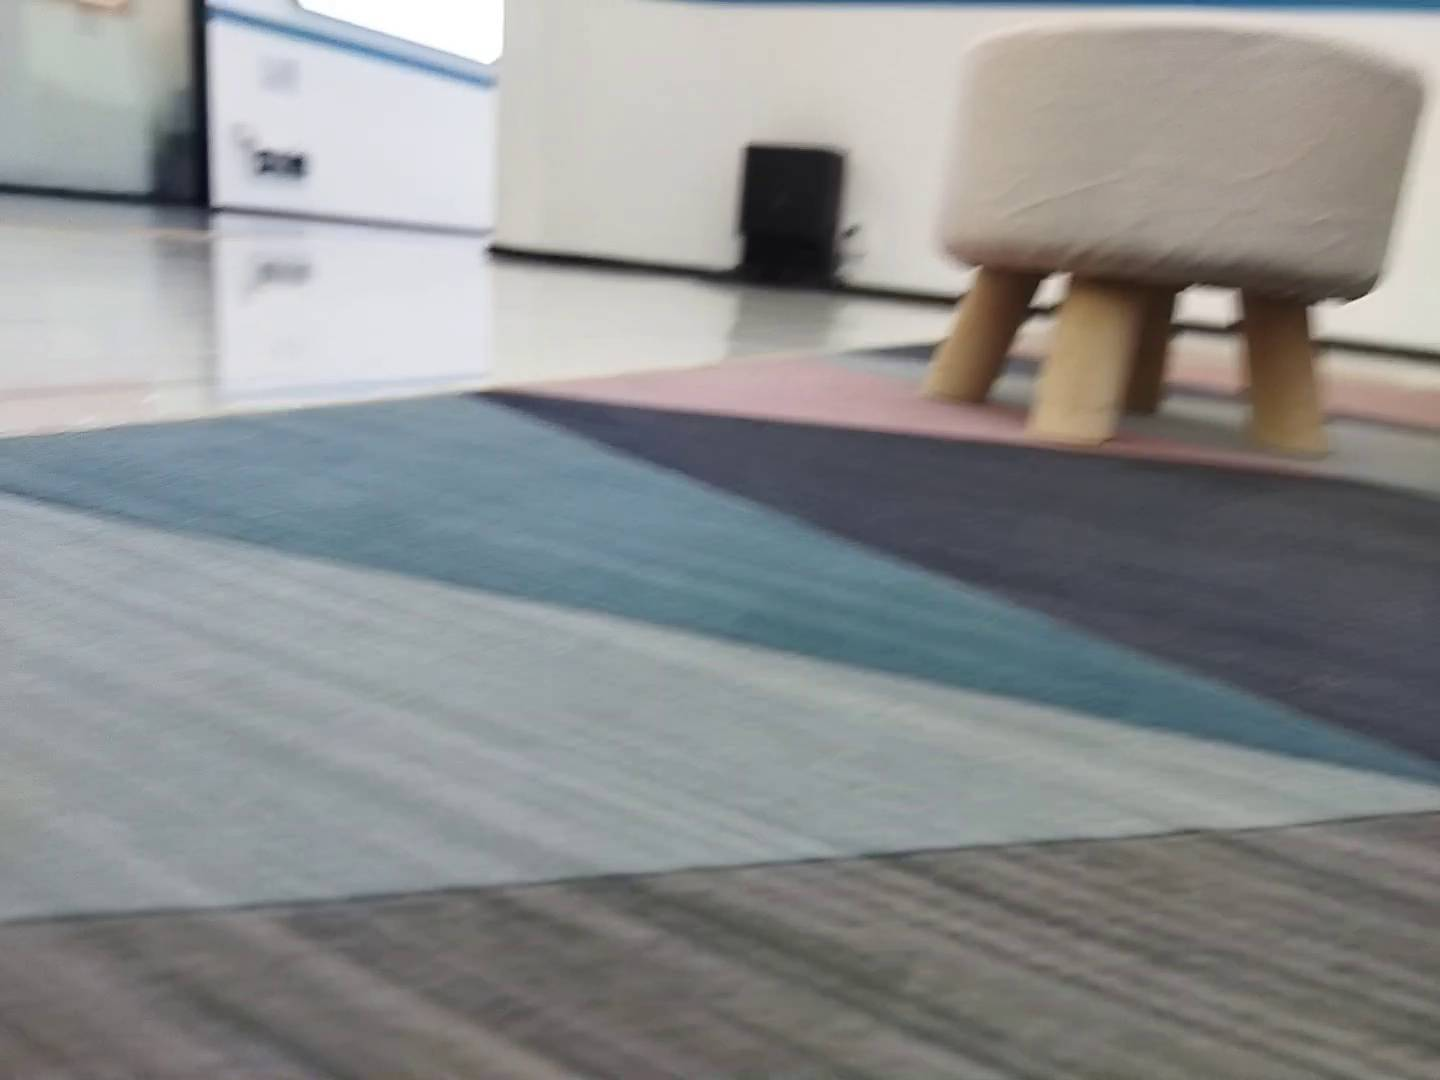dust collecting barrel: (710, 144, 848, 288)
